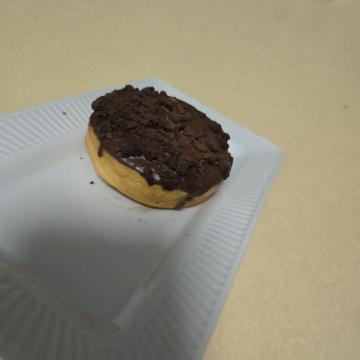doughnut: (63, 115, 228, 289)
